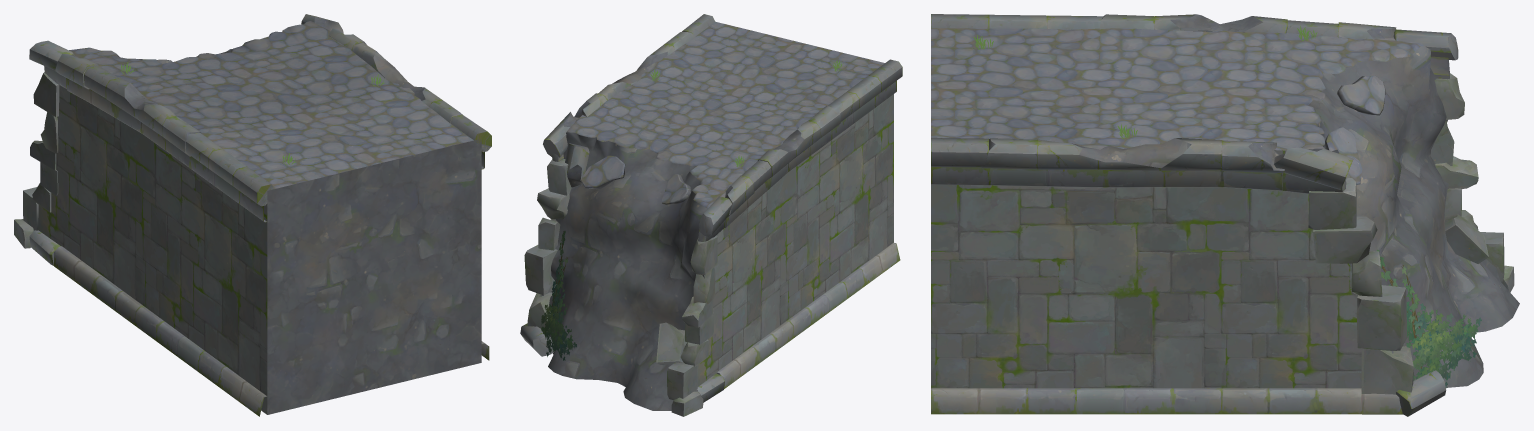
The model's file is Area_MdBuild_SdPlatform08_Group.fbx.
3 views of the same model, side by side, from view 1: azimuth 30°, elevation 25°; view 2: azimuth 150°, elevation 25°; view 3: azimuth 270°, elevation 25° (orthographic). The views are drawn at different scales.
Parts seen in each view (by area): view 1: Area_MdBuild_SdPlatform08_Lod0; view 2: Area_MdBuild_SdPlatform08_Lod0, Stages_LYLvy04_Vo (1); view 3: Area_MdBuild_SdPlatform08_Lod0, Stages_LYLvy04_Vo (1).
Part boxes in pixels (x1=…): Area_MdBuild_SdPlatform08_Lod0: x1=14, y1=14, x2=491, y2=416; Area_MdBuild_SdPlatform08_Lod0: x1=520, y1=14, x2=902, y2=416; Stages_LYLvy04_Vo (1): x1=541, y1=231, x2=576, y2=360; Area_MdBuild_SdPlatform08_Lod0: x1=931, y1=14, x2=1519, y2=416; Stages_LYLvy04_Vo (1): x1=1377, y1=249, x2=1481, y2=388.
Size of the model in its own units: 11.4 by 10.87 by 20.27.
Materials: 7 (7 with a texture image).
